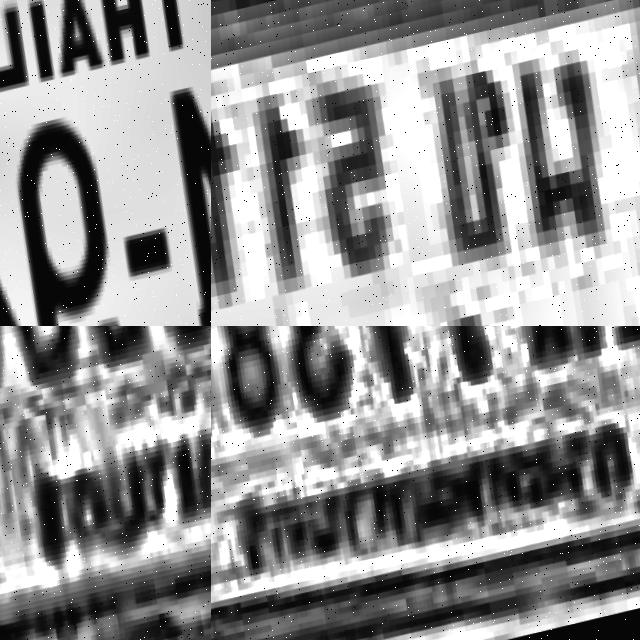license-plate: (211, 0, 640, 326), (211, 326, 640, 640), (0, 0, 211, 326), (0, 326, 211, 640)
